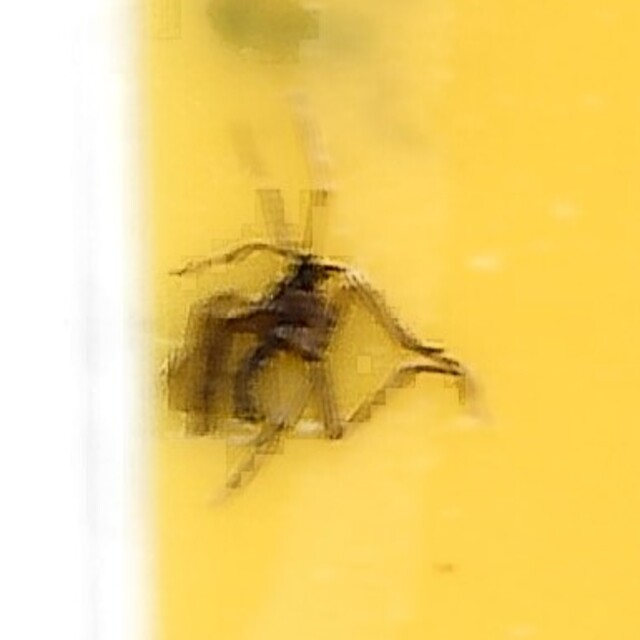Nematocera: (166, 189, 474, 451)
